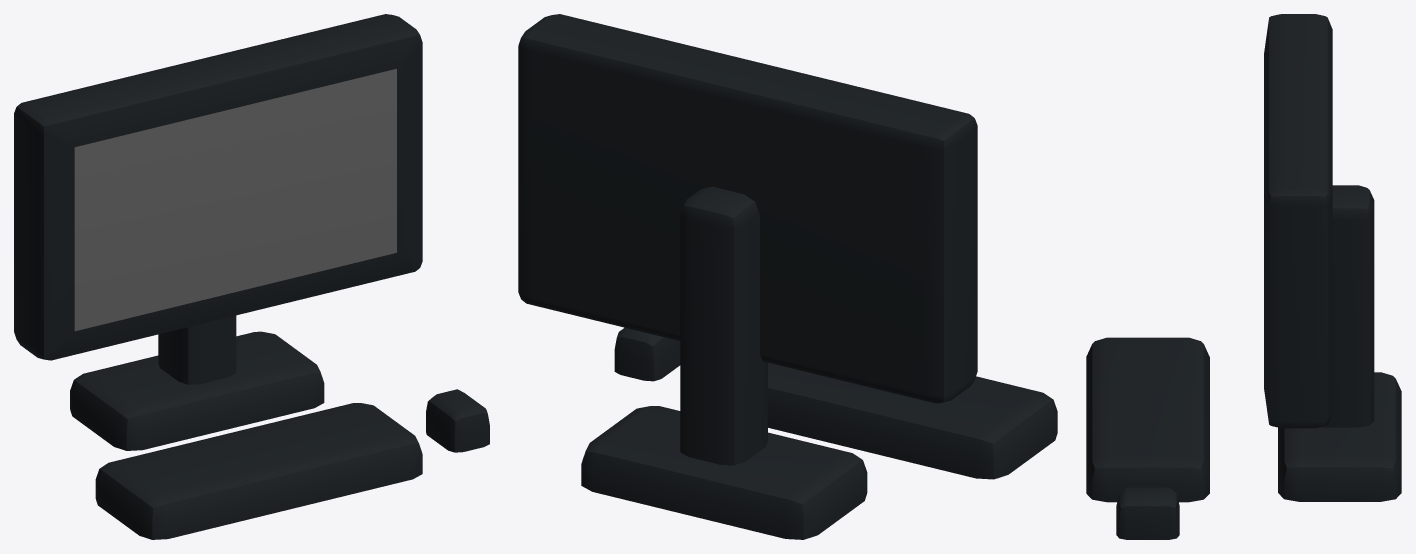
Rendered from Computer.fbx.
The picture shows the model from 3 angles, left to right: view 1: azimuth 30°, elevation 25°; view 2: azimuth 150°, elevation 25°; view 3: azimuth 270°, elevation 25°; orthographic projection. The views are drawn at different scales.
Parts seen in each view (by area): view 1: Computer; view 2: Computer; view 3: Computer.
Part boxes in pixels (<box>): Computer: <box>14,14,489,539</box>; Computer: <box>518,14,1057,539</box>; Computer: <box>1086,14,1401,539</box>.
Bounding box in the file's own units: 6.2 × 5.47 × 4.47.
